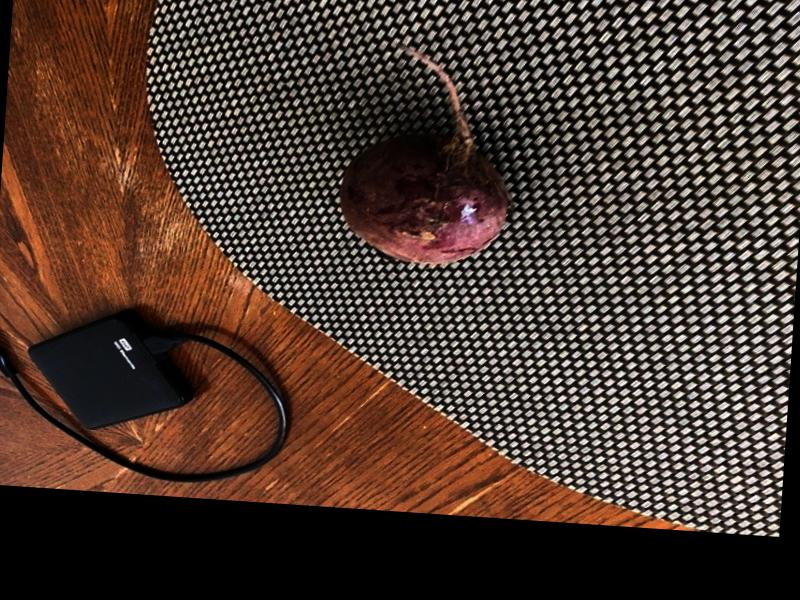Beet: (337, 40, 519, 268)
